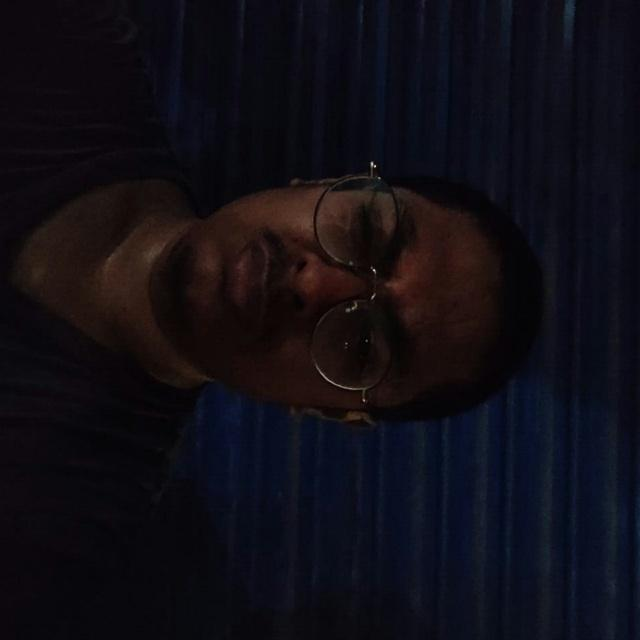Disgust: (135, 100, 540, 488)
